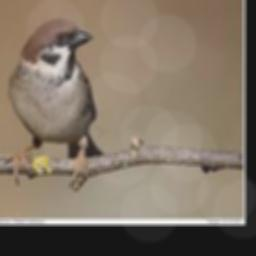Sparrow: (8, 18, 104, 187)
